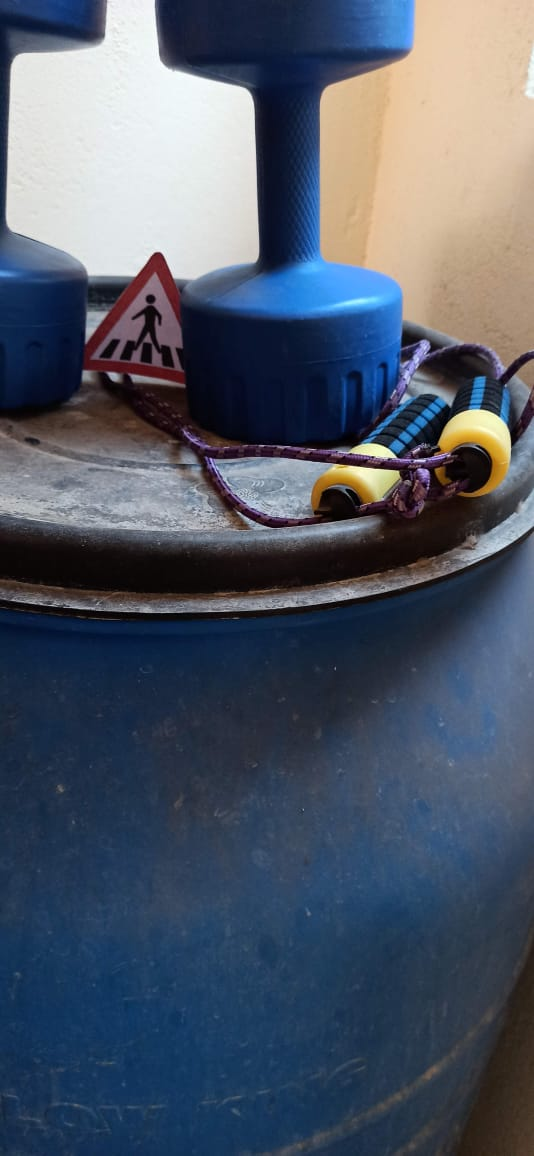PEDESTRIAN CROSSING: (73, 239, 233, 393)
